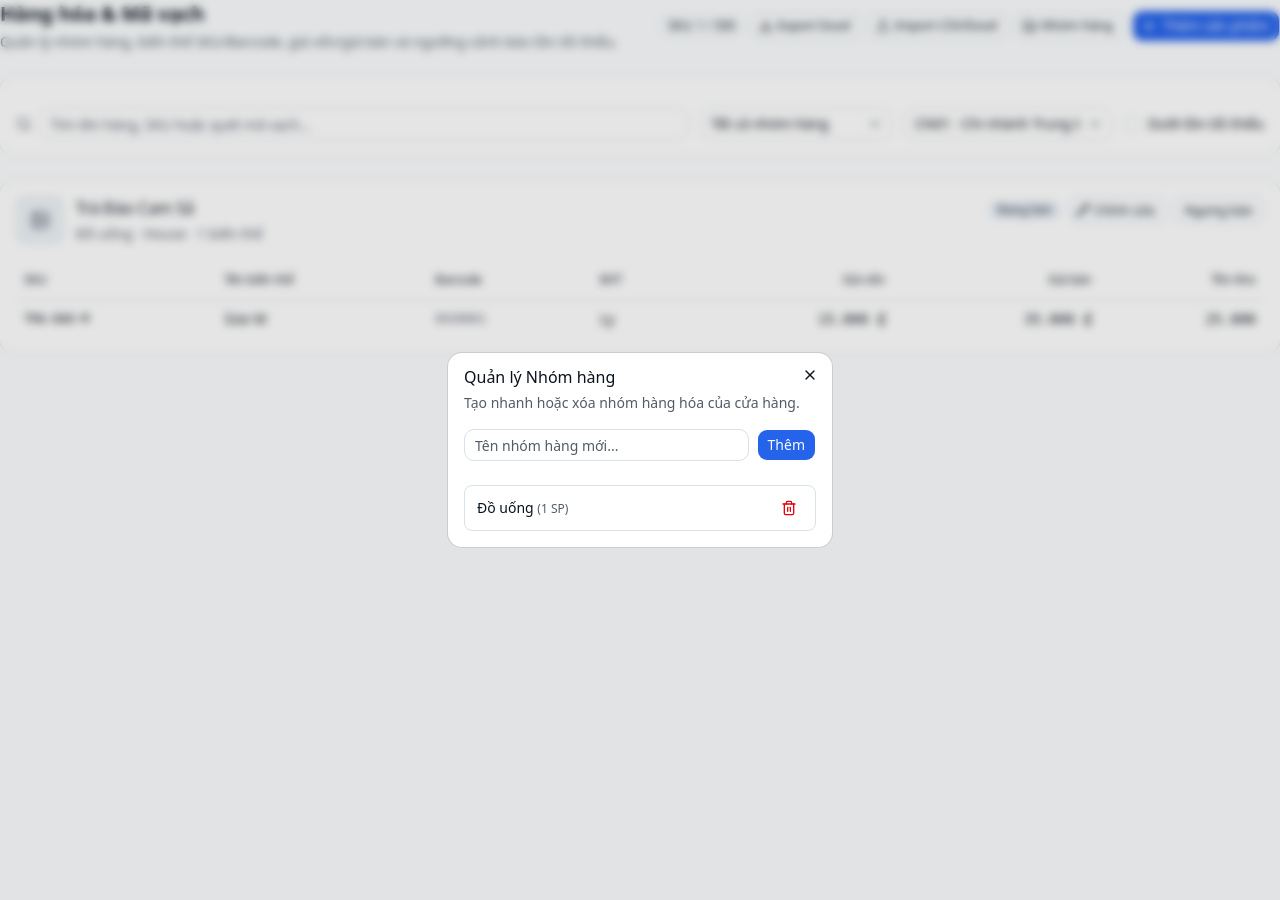
UI/UX Enhancements & Regressions Suite › supports editing product & variant in ProductEditDialog and requires ConfirmDialog before deleting a category
Earlier steps of the test are not shown.
Later steps or results of the test are not shown.
Click the button named "Xóa Đồ uống". click: (789, 508)
box: 775,494 -> 803,522
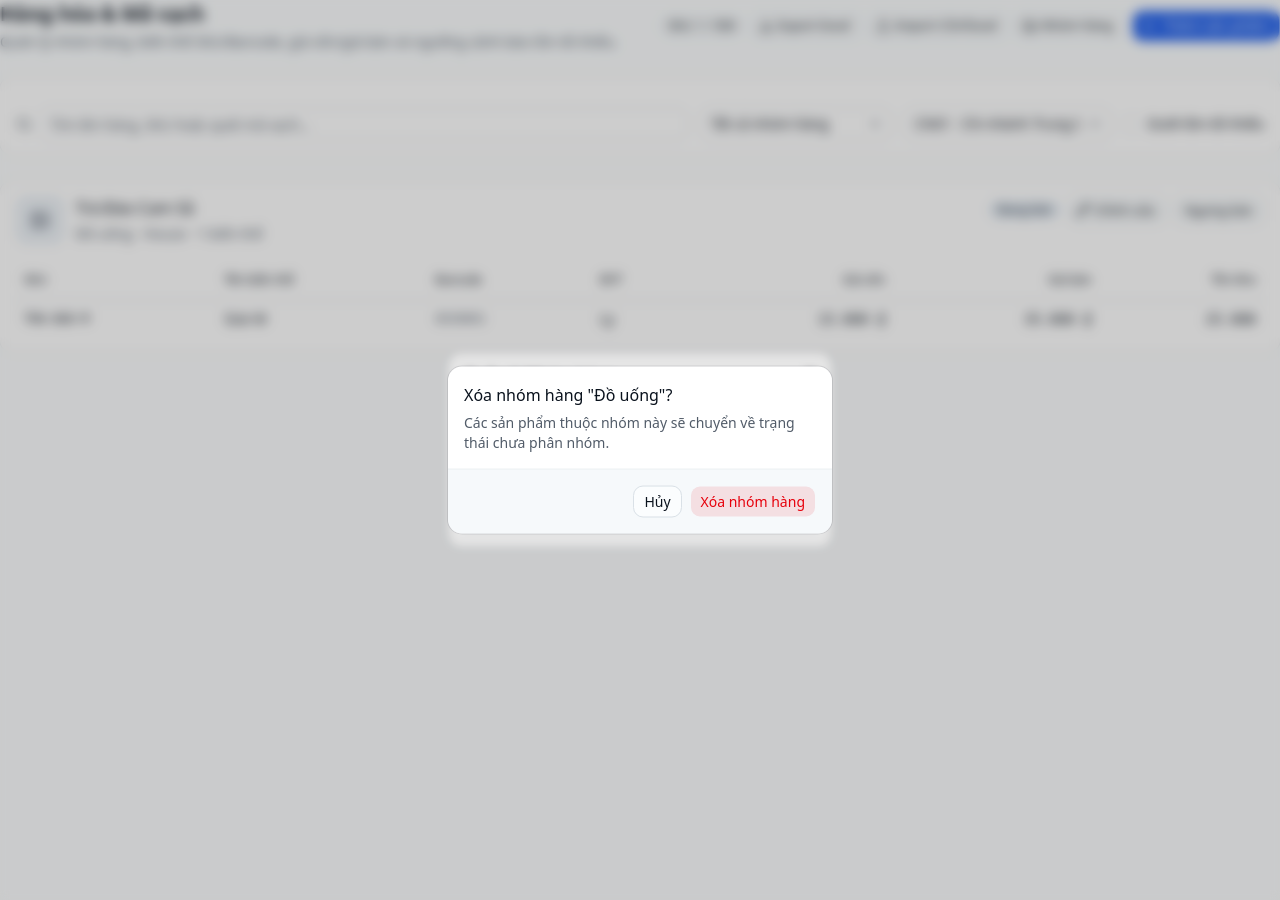
expect the heading "Xóa nhóm hàng \"Đồ uống\"?" is shown: met, box 464,382 -> 672,406
